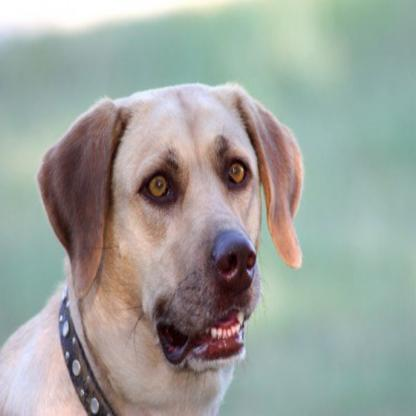Labarador Retriever: (0, 80, 304, 415)
